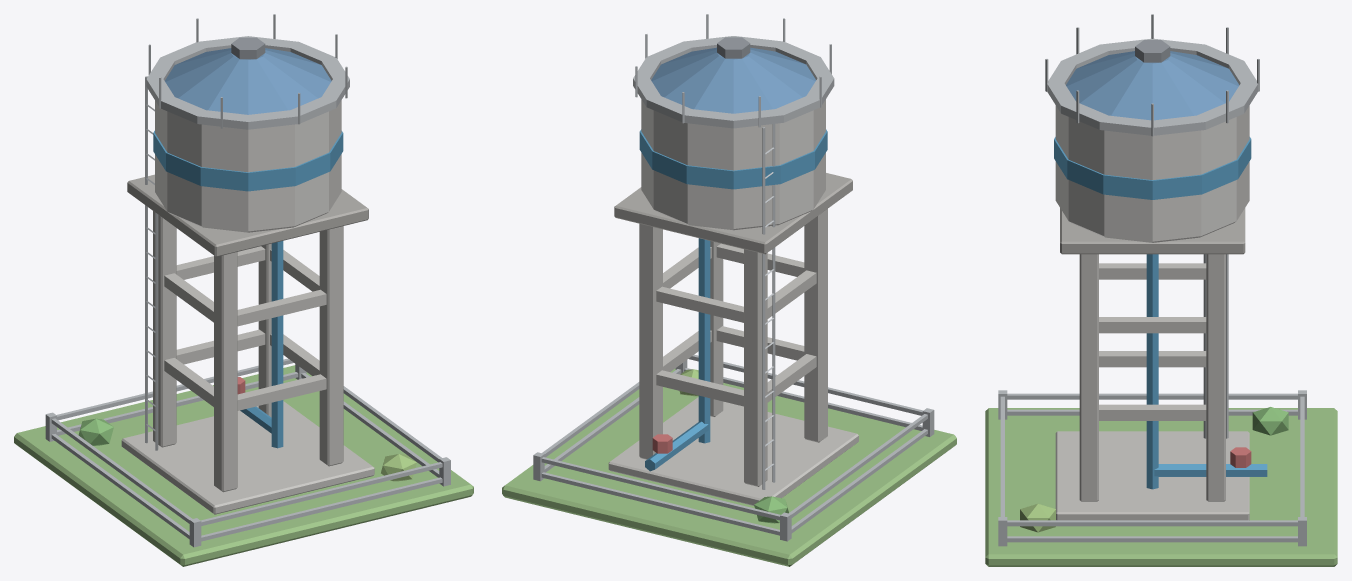
The model's file is agua__caixa_dagua.glb.
3 views of the same model, side by side, from view 1: azimuth 30°, elevation 25°; view 2: azimuth 150°, elevation 25°; view 3: azimuth 270°, elevation 25° (orthographic). The views are drawn at different scales.
Visible parts, largest first — view 1: agua__caixa_dagua; view 2: agua__caixa_dagua; view 3: agua__caixa_dagua.
Boxes of the visible parts, bbox=[...] form: agua__caixa_dagua: bbox=[14, 14, 473, 566]; agua__caixa_dagua: bbox=[502, 14, 956, 566]; agua__caixa_dagua: bbox=[985, 14, 1337, 566].
Bounding box in the file's own units: 2 × 2.8 × 2.
